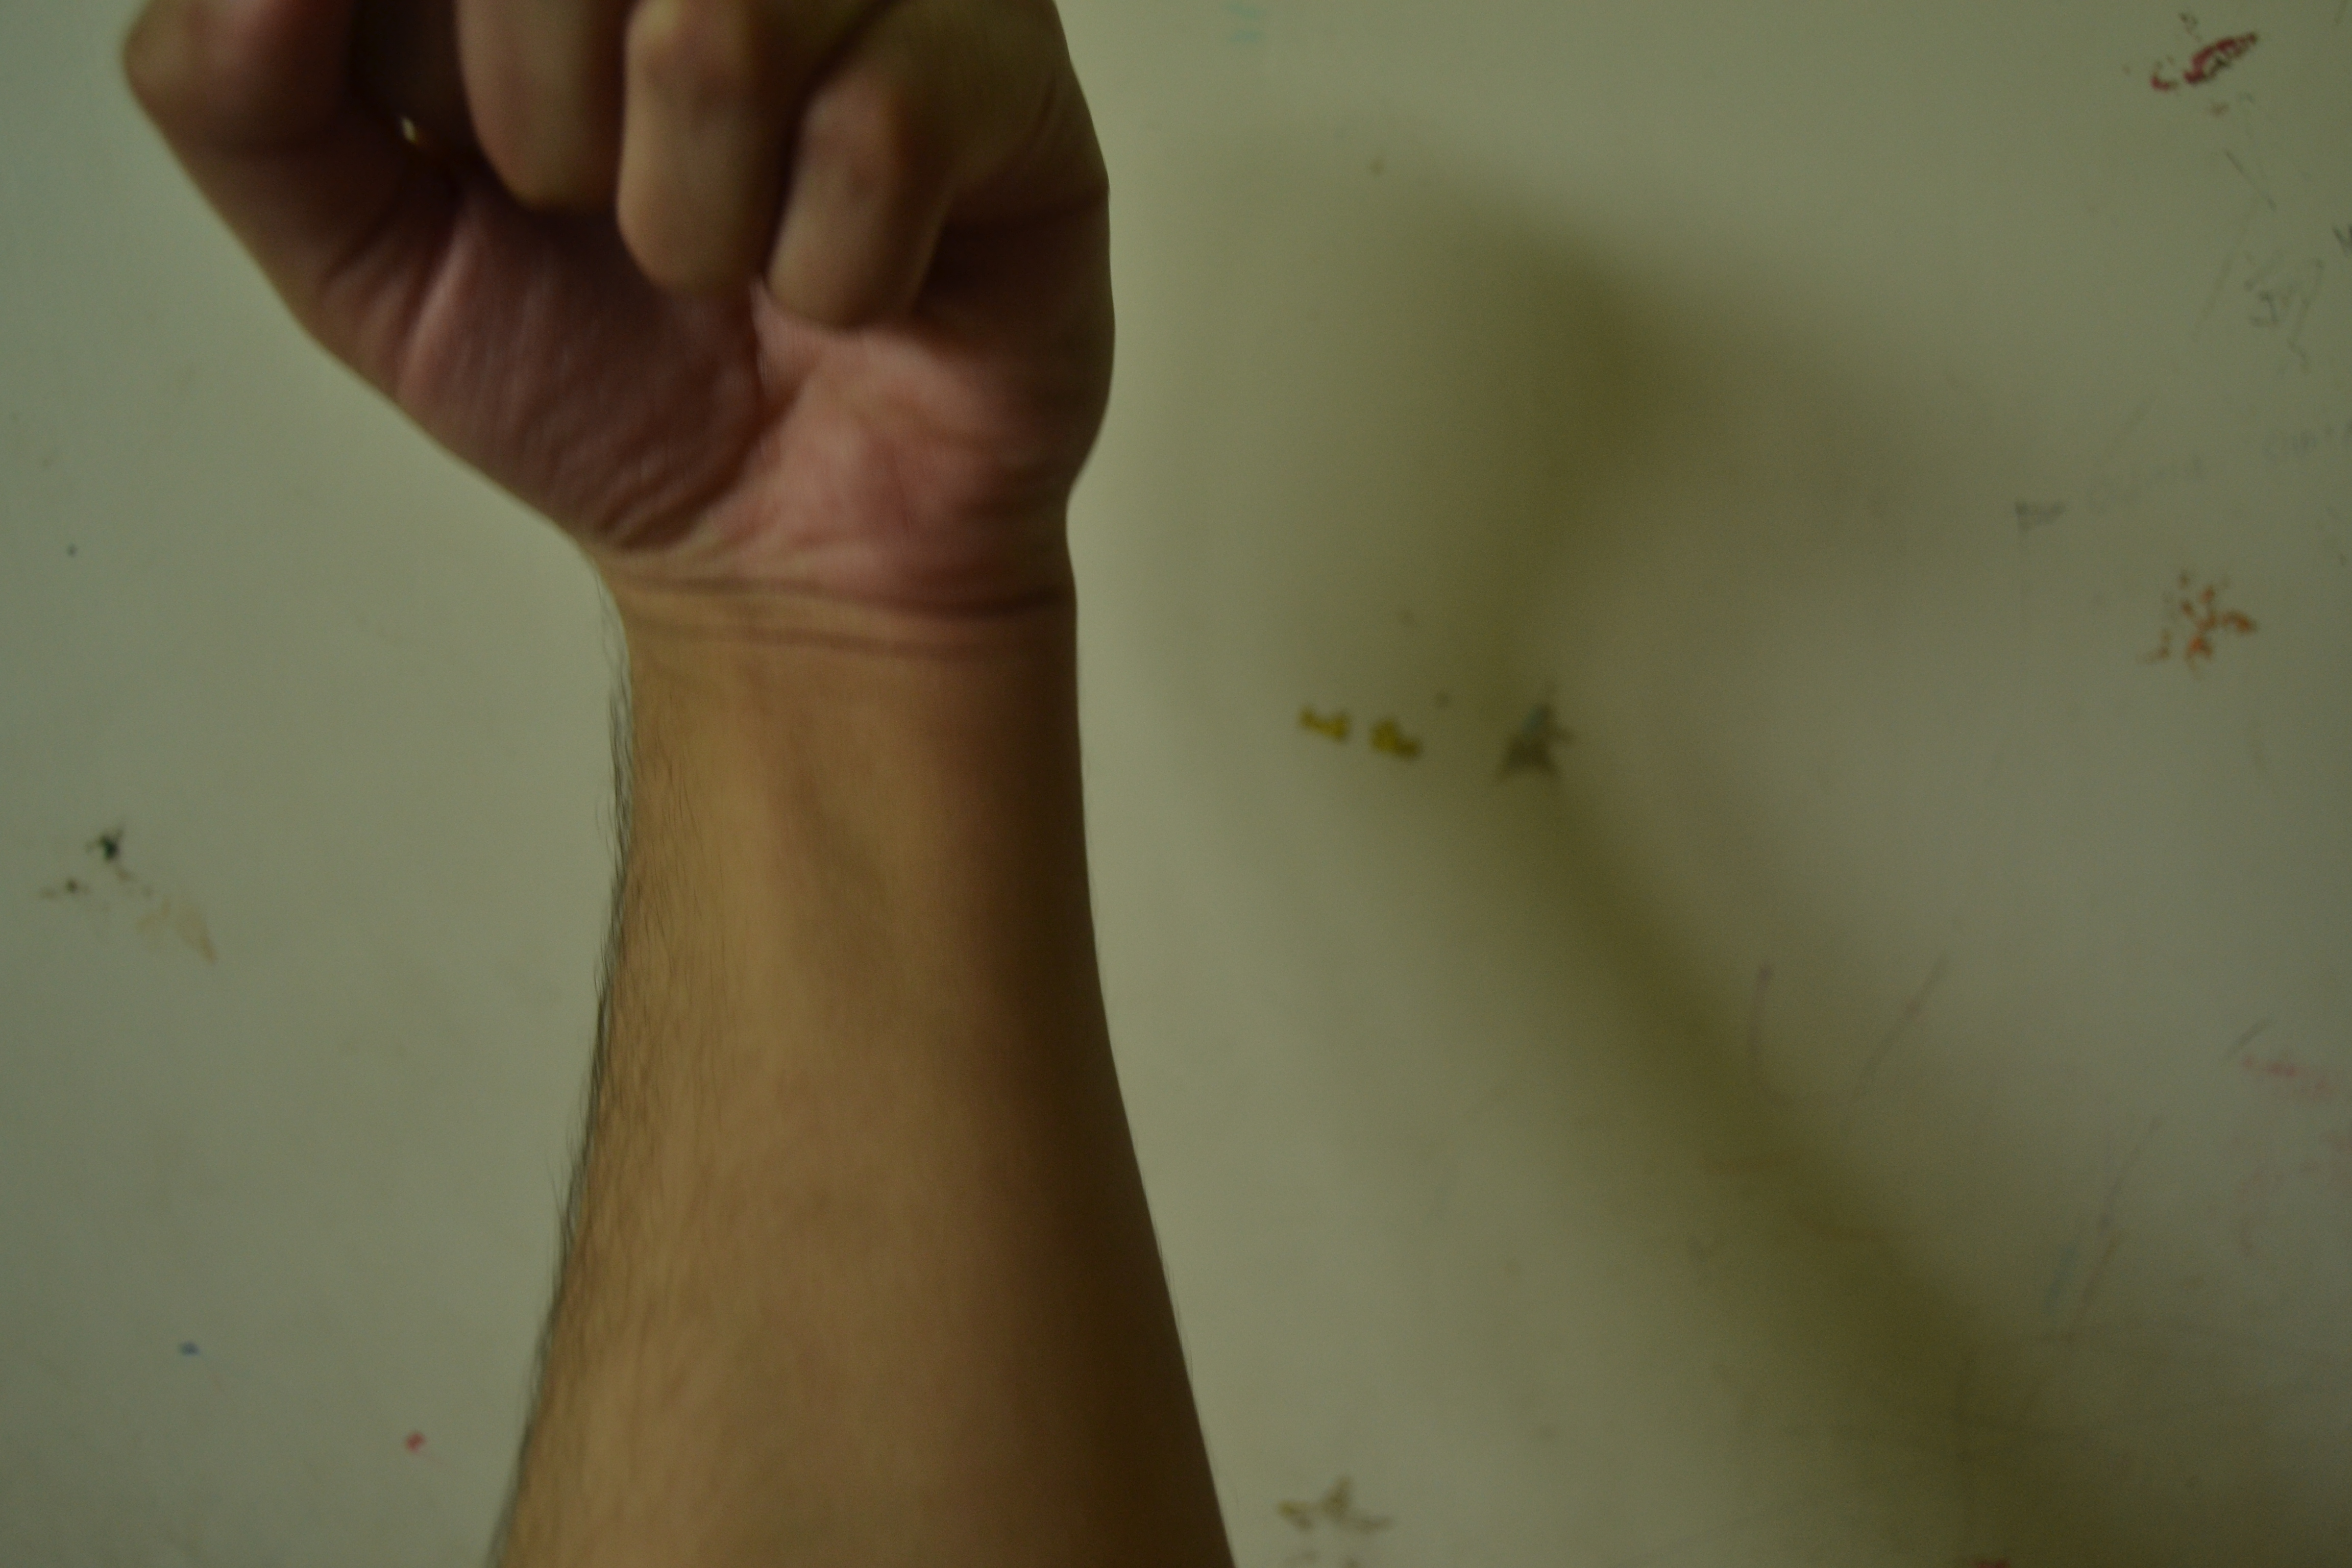click: (133, 0, 1220, 705)
